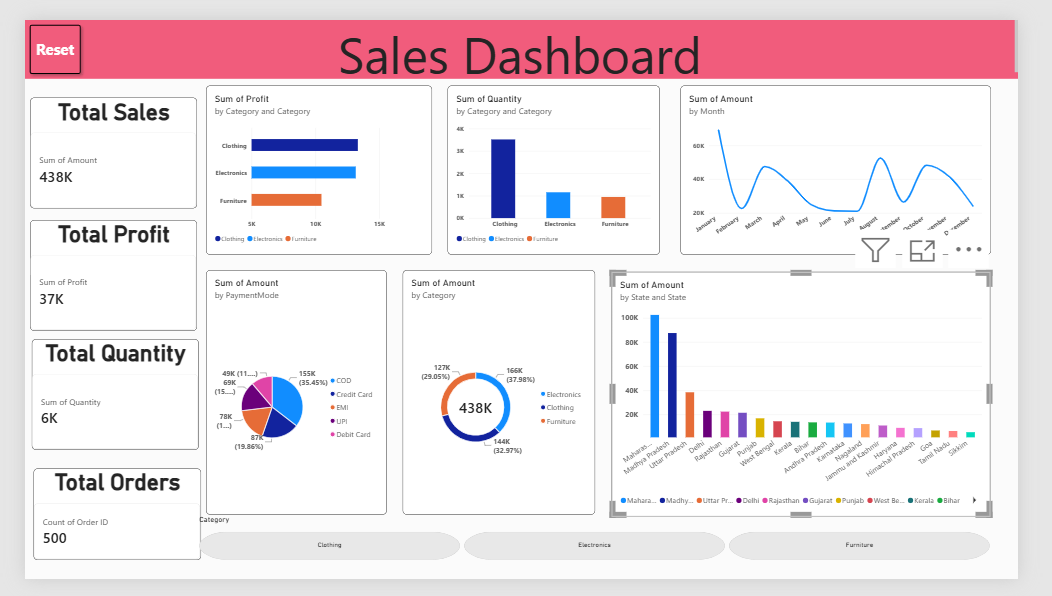

Layout of this report page (visuals, bound fields, positions):
{"tool":"powerbi","page":{"name":"Page 1","canvas":[1920,1080],"ordinal":0},"visuals":[{"type":"textbox","box":[0,0,1920,113.3],"z":0},{"type":"textbox","box":[10,290,280,280],"z":1000},{"type":"cardVisual","title":"Total Sales","fields":{"Data":["Sum(Details.Amount)"]},"box":[8.7,150.8,322.6,213.8],"z":2000},{"type":"cardVisual","title":"Total Profit","fields":{"Data":["Sum(Details.Profit)"]},"box":[11.6,385.8,322.6,213.8],"z":3000},{"type":"cardVisual","title":"Total Quantity","fields":{"Data":["Sum(Details.Quantity)"]},"box":[14.5,617.9,322.6,213.8],"z":4000},{"type":"lineChart","fields":{"Category":["Orders xlxs.Order Date.Variation.Date Hierarchy.Month"],"Y":["Sum(Details.Amount)"]},"box":[1266.7,126.7,600,326.7],"z":7000},{"type":"donutChart","fields":{"Category":["Details.Category"],"Y":["Sum(Details.Amount)"]},"box":[730,483.3,371.3,472.6],"z":8000},{"type":"barChart","fields":{"Category":["Details.Category"],"Series":["Details.Category"],"Y":["Sum(Details.Profit)"]},"box":[350,126.7,436.7,326.7],"z":9000},{"type":"pieChart","fields":{"Category":["Details.PaymentMode"],"Y":["Sum(Details.Amount)"]},"box":[350,483.3,348.8,472.6],"z":10000},{"type":"columnChart","fields":{"Category":["Orders xlxs.State"],"Series":["Orders xlxs.State"],"Y":["Sum(Details.Amount)"]},"box":[1133.3,486.7,733.3,473.3],"z":11000},{"type":"cardVisual","title":"Total Orders","fields":{"Data":["Count(Details.Order ID)"]},"box":[16.7,866.7,323.3,176.7],"z":11001},{"type":"columnChart","fields":{"Category":["Details.Category"],"Series":["Details.Category"],"Y":["Sum(Details.Quantity)"]},"box":[816.7,126.7,410,326.7],"z":11002},{"type":"advancedSlicerVisual","fields":{"Values":["Details.Category"]},"box":[336.7,956.7,1530,86.7],"z":11003},{"type":"actionButton","box":[0,0,116.7,113.3],"z":11004}]}

Visuals, with their boxes in screenshot pixels (x1, y1, x2, y2), scaled from the page's 1920x1080 canvas onto the 1052x596 screenshot:
textbox: box=[0, 0, 1051, 63]
textbox: box=[5, 160, 159, 315]
"Total Sales" cardVisual: box=[5, 83, 182, 201]
"Total Profit" cardVisual: box=[6, 213, 183, 331]
"Total Quantity" cardVisual: box=[8, 341, 185, 459]
lineChart - Orders xlxs.Order Date.Variation.Date Hierarchy.Month x Sum(Details.Amount): box=[694, 70, 1023, 250]
donutChart - Details.Category x Sum(Details.Amount): box=[400, 267, 603, 528]
barChart - Details.Category x Details.Category: box=[192, 70, 431, 250]
pieChart - Details.PaymentMode x Sum(Details.Amount): box=[192, 267, 383, 528]
columnChart - Orders xlxs.State x Orders xlxs.State: box=[621, 269, 1023, 530]
"Total Orders" cardVisual: box=[9, 478, 186, 576]
columnChart - Details.Category x Details.Category: box=[447, 70, 672, 250]
advancedSlicerVisual - Details.Category: box=[184, 528, 1023, 576]
actionButton: box=[0, 0, 64, 63]
